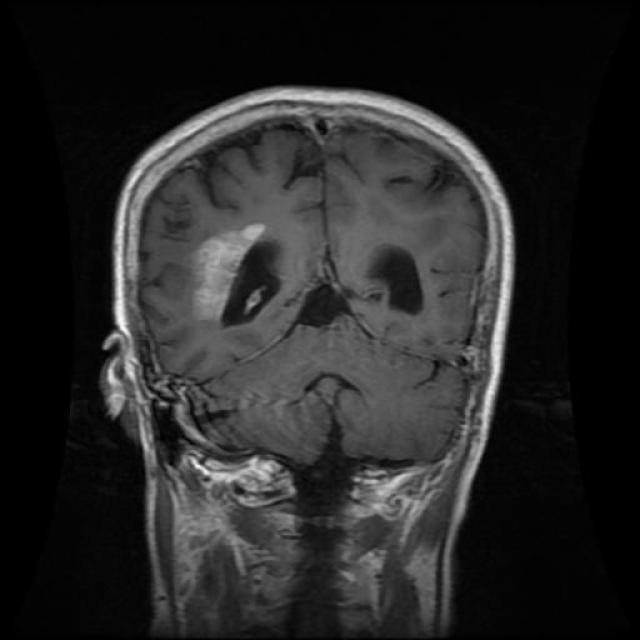glioma: (180, 225, 294, 339)
